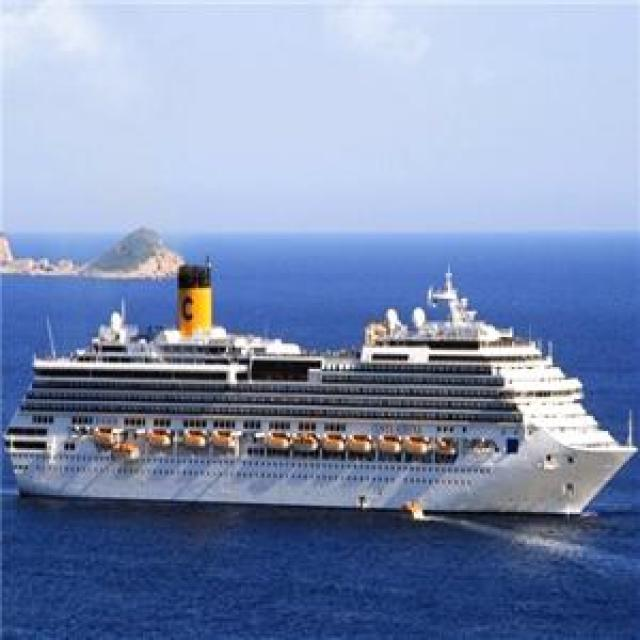passenger ship: (8, 259, 640, 524)
